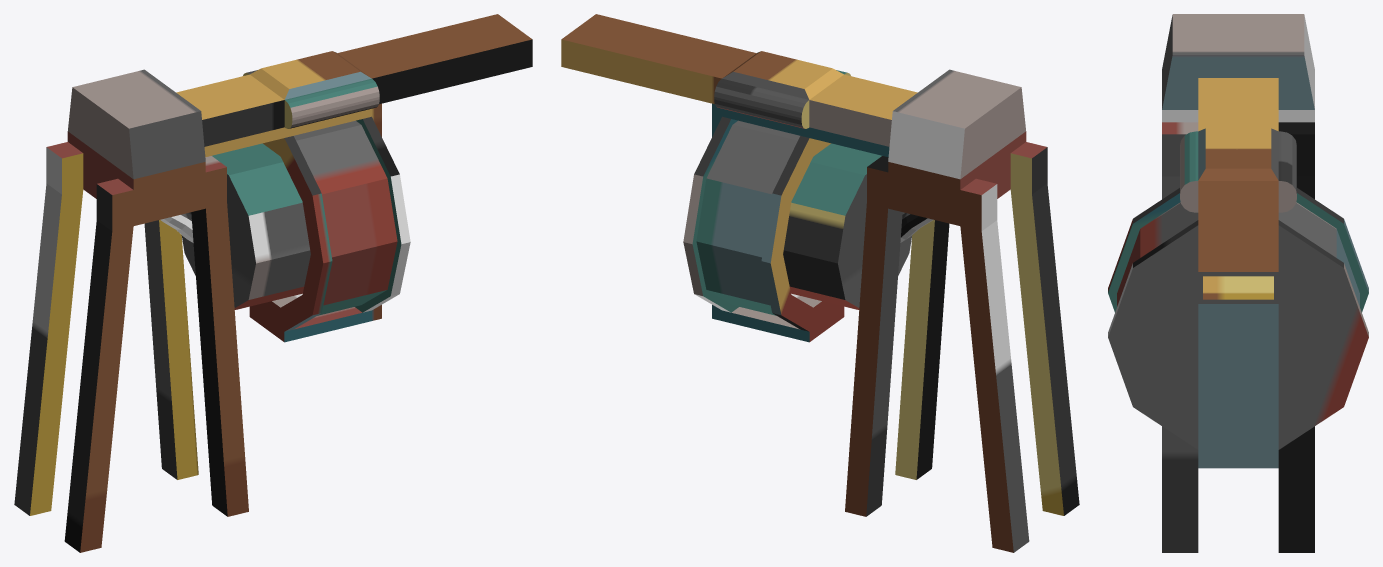
Rendered from NailGun.fbx.
The picture shows the model from 3 angles, left to right: view 1: azimuth 30°, elevation 25°; view 2: azimuth 150°, elevation 25°; view 3: azimuth 270°, elevation 25°; orthographic projection. The views are drawn at different scales.
Visible parts, largest first — view 1: Cylinder; view 2: Cylinder; view 3: Cylinder.
Boxes of the visible parts, bbox=[...] form: Cylinder: bbox=[14, 14, 532, 552]; Cylinder: bbox=[561, 14, 1079, 552]; Cylinder: bbox=[1108, 14, 1368, 552].
Bounding box in the file's own units: 230 × 192 × 95.69.
